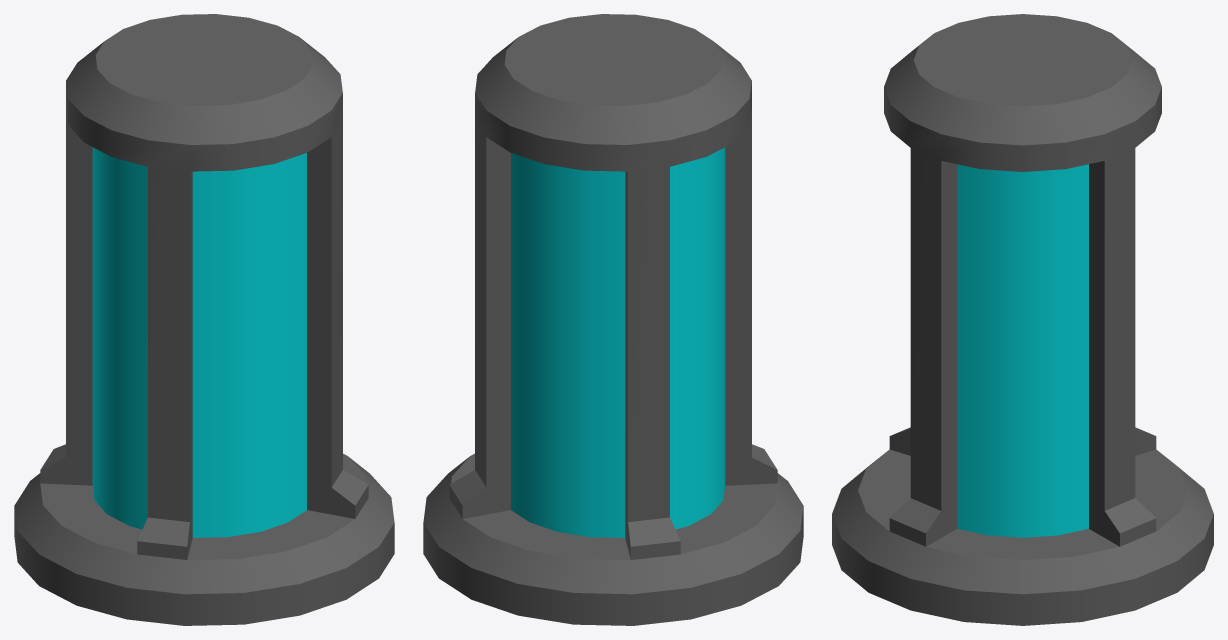
Rendered from CoreTest.fbx.
The picture shows the model from 3 angles, left to right: view 1: azimuth 30°, elevation 25°; view 2: azimuth 150°, elevation 25°; view 3: azimuth 270°, elevation 25°; orthographic projection.
Visible parts, largest first — view 1: Core; view 2: Core; view 3: Core.
Boxes of the visible parts, <box> form: Core: <box>14,14,394,625</box>; Core: <box>423,14,803,625</box>; Core: <box>832,14,1213,625</box>.
Bounding box in the file's own units: 8.16 × 11.44 × 8.16.
